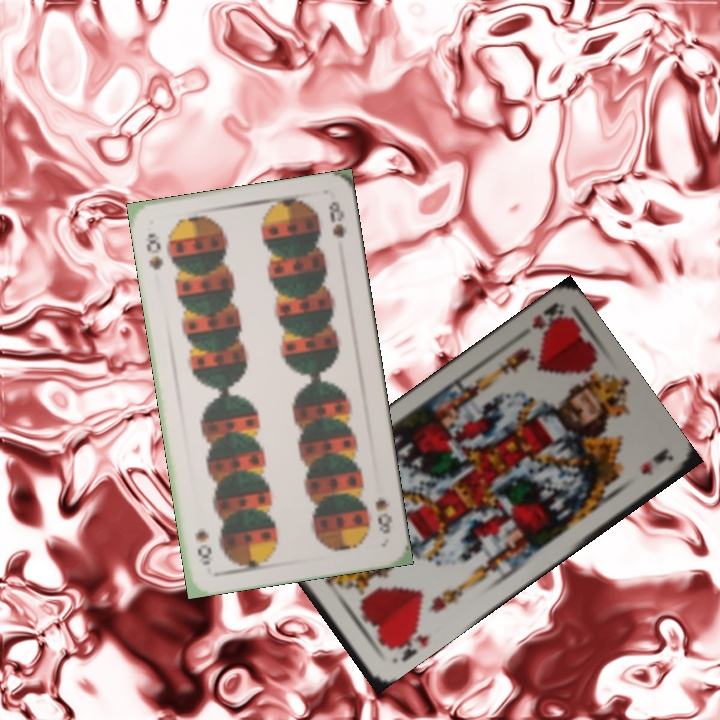HK: (383, 621, 433, 665), (528, 299, 567, 336)
S8: (140, 229, 166, 273), (371, 494, 395, 537)
